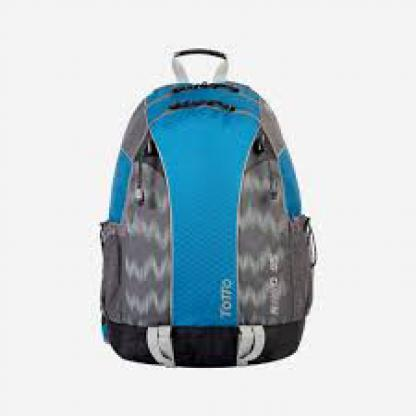morral: (87, 43, 329, 374)
